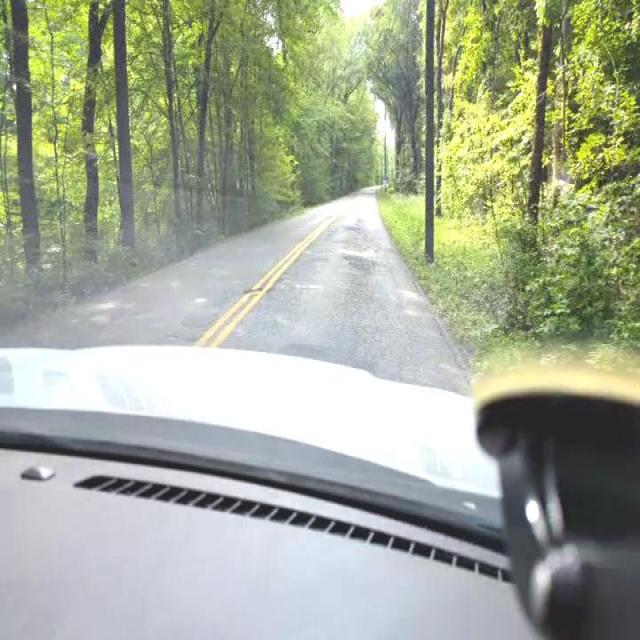pothole: (240, 280, 273, 300)
